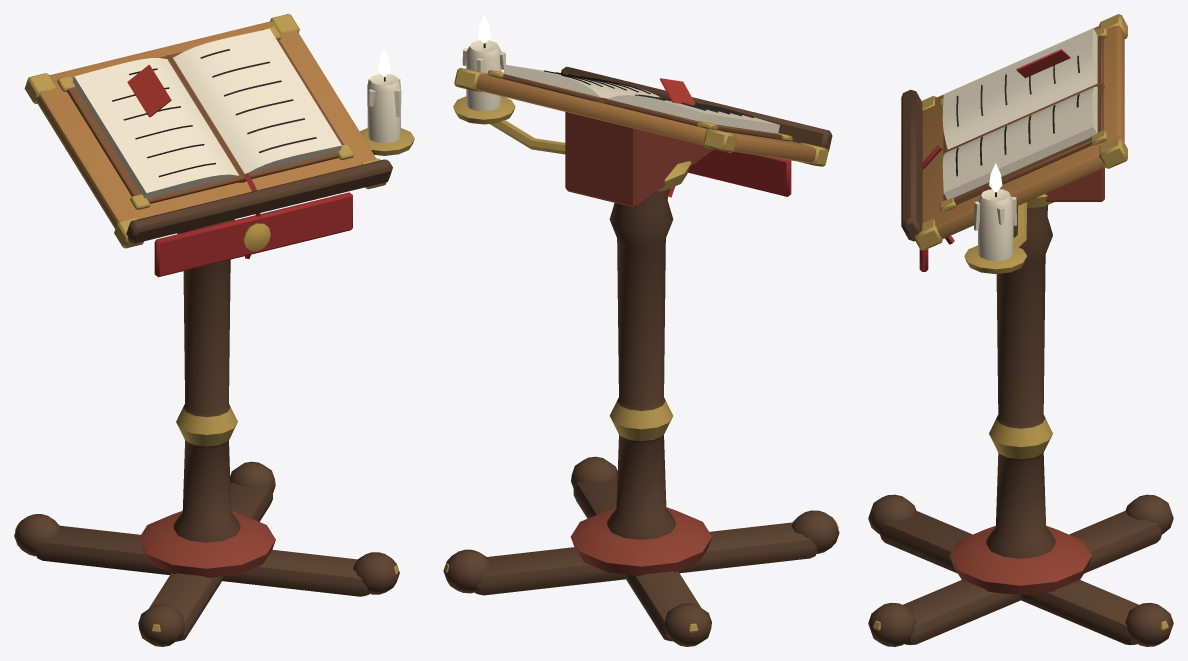
Rendered from deco_lectern_tome.fbx.
3 renders of one model, left to right at view 1: azimuth 30°, elevation 25°; view 2: azimuth 150°, elevation 25°; view 3: azimuth 270°, elevation 25°, orthographic. The views are drawn at different scales.
Visible parts, largest first — view 1: Lectern_Tome_Stand, Lectern_Tome_Book, Lectern_Tome_Candle; view 2: Lectern_Tome_Stand, Lectern_Tome_Book, Lectern_Tome_Candle; view 3: Lectern_Tome_Stand, Lectern_Tome_Book, Lectern_Tome_Candle.
Boxes of the visible parts, left/top/right/bottom form: Lectern_Tome_Stand: left=14, top=14, right=399, bottom=646; Lectern_Tome_Book: left=57, top=26, right=354, bottom=258; Lectern_Tome_Candle: left=360, top=48, right=414, bottom=155; Lectern_Tome_Stand: left=443, top=66, right=839, bottom=646; Lectern_Tome_Book: left=487, top=65, right=792, bottom=197; Lectern_Tome_Candle: left=453, top=14, right=515, bottom=124; Lectern_Tome_Stand: left=868, top=14, right=1173, bottom=646; Lectern_Tome_Book: left=920, top=27, right=1107, bottom=244; Lectern_Tome_Candle: left=964, top=163, right=1026, bottom=273.
Bounding box in the file's own units: 92 × 137 × 72.66.
